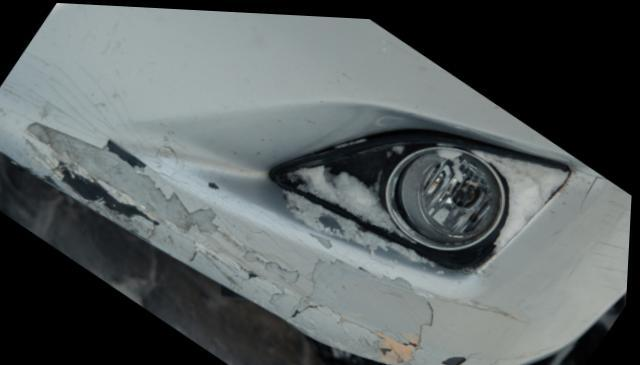scratch: (4, 103, 479, 365)
